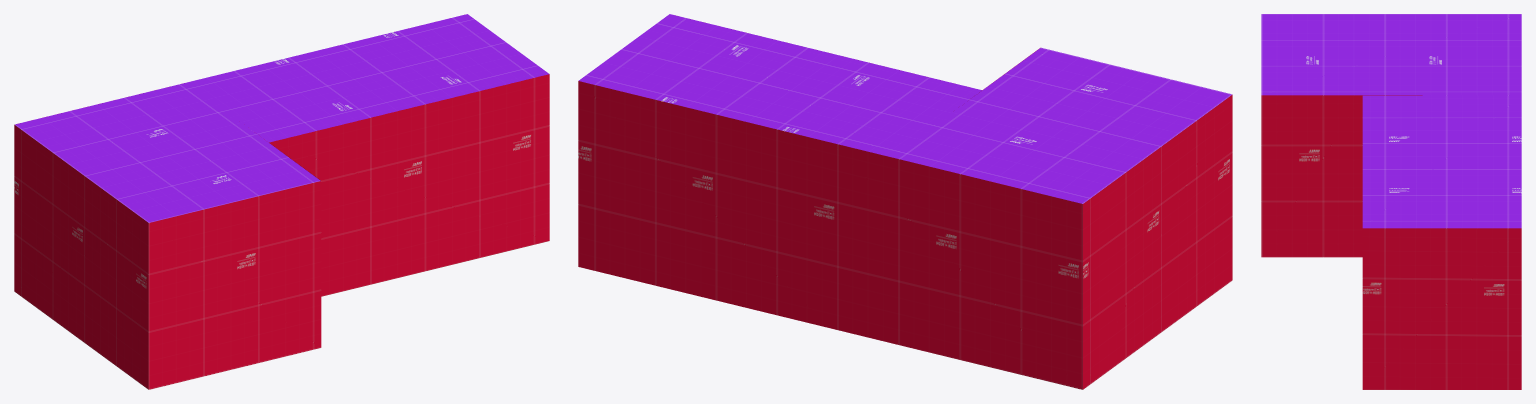
The model's file is raum.fbx.
3 views of the same model, side by side, from view 1: azimuth 30°, elevation 25°; view 2: azimuth 150°, elevation 25°; view 3: azimuth 270°, elevation 25° (orthographic). The views are drawn at different scales.
Parts seen in each view (by area): view 1: raum.001, raum.004, raum.009, raum.010, raum.005; view 2: raum.006, raum.009, raum.010, raum.005; view 3: raum.008, raum.010, raum.009, raum.003.
Boxes of the visible parts, x1,y1,x2,y2 form: raum.001: (269, 74, 549, 296); raum.004: (148, 181, 321, 389); raum.009: (15, 82, 320, 222); raum.010: (187, 14, 549, 142); raum.005: (14, 125, 148, 389); raum.006: (578, 81, 1082, 389); raum.009: (891, 47, 1232, 203); raum.010: (578, 14, 981, 156); raum.005: (1083, 95, 1232, 389); raum.008: (1362, 228, 1521, 389); raum.010: (1362, 95, 1521, 228); raum.009: (1261, 14, 1521, 95); raum.003: (1261, 95, 1362, 257).
Size of the model in its own units: 825 by 290 by 424.
8 materials, 8 textured.
